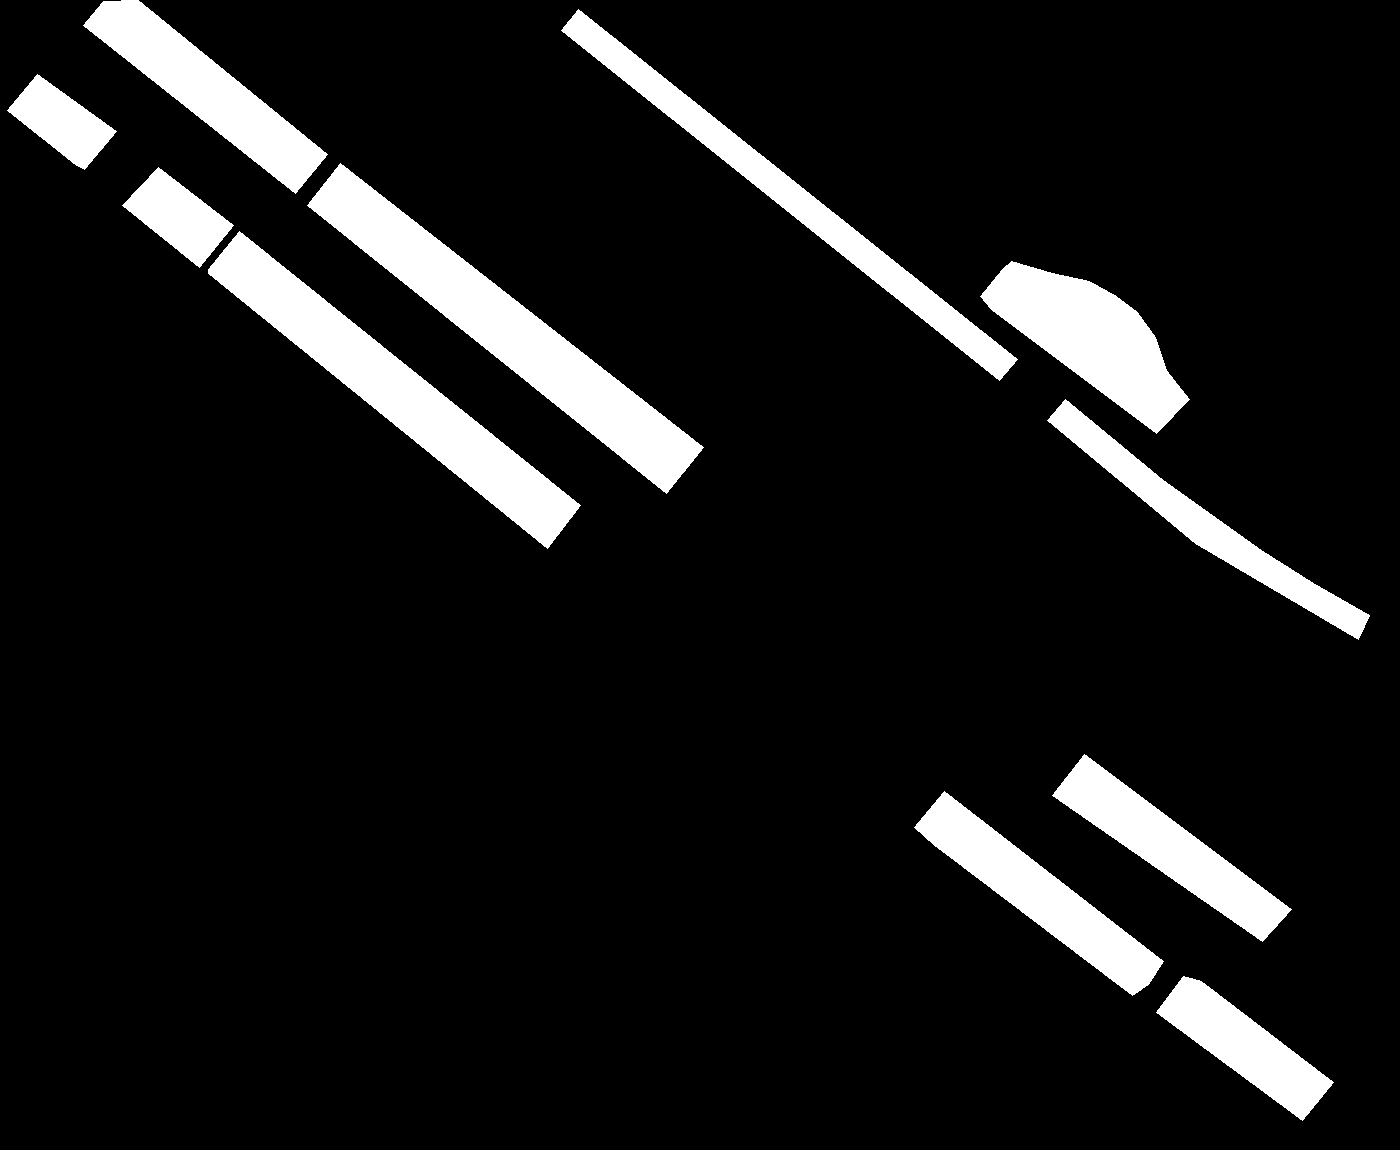parkingspot: (560, 9, 1017, 380), (307, 163, 703, 493), (208, 231, 580, 548), (1047, 399, 1369, 640), (914, 791, 1163, 995), (83, 0, 327, 193), (1052, 753, 1291, 941), (980, 260, 1190, 433), (1156, 976, 1333, 1120), (122, 167, 233, 267), (7, 74, 116, 169)
